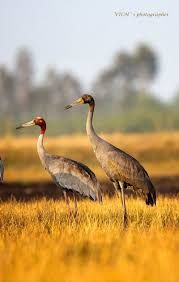seu_dau_do: (67, 91, 157, 224), (16, 114, 100, 227)
